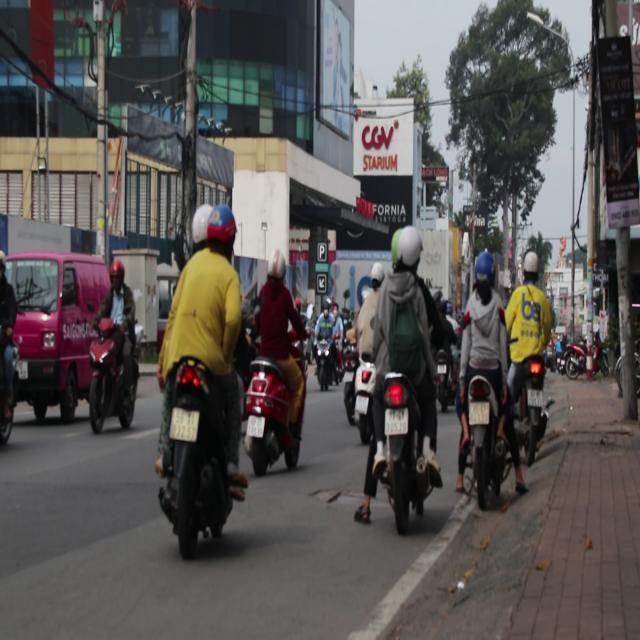motorbike: (154, 360, 245, 556), (355, 366, 435, 534), (460, 367, 510, 514), (244, 360, 305, 476), (510, 351, 556, 466), (86, 336, 138, 437), (346, 351, 378, 438), (315, 334, 343, 392)
truck: (5, 248, 114, 422)
